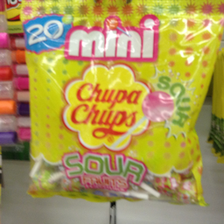candy: (25, 1, 210, 206)
